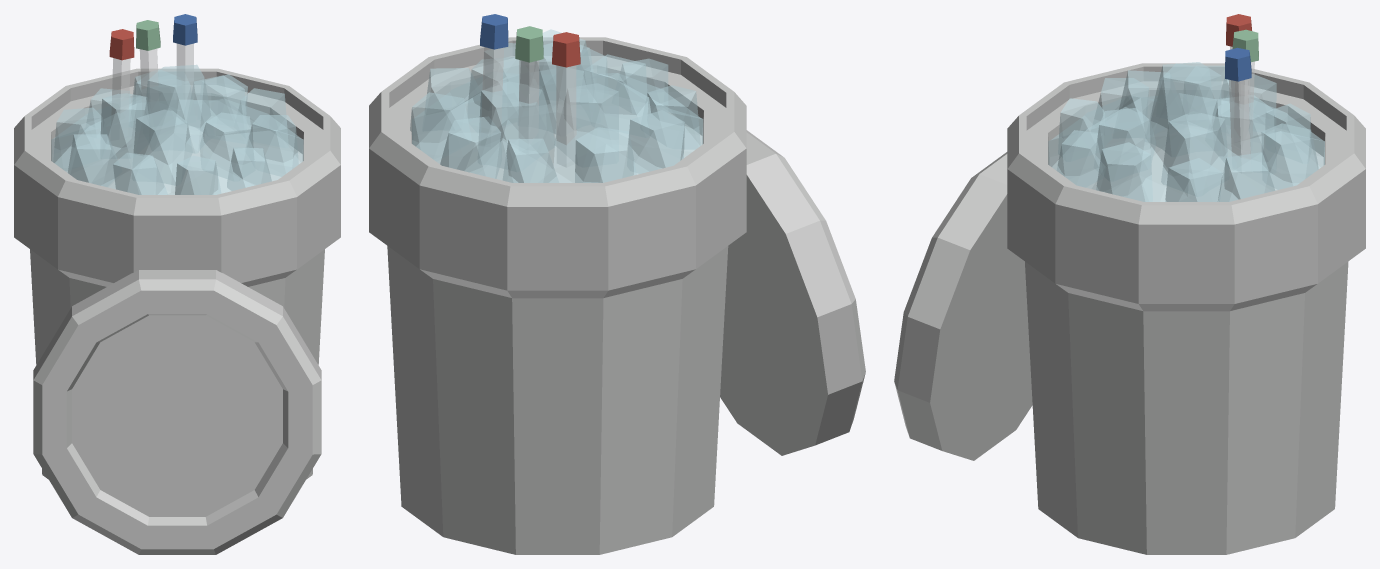
File: ice-bucket-1dd869.glb
3 views of the same model, side by side, from view 1: azimuth 30°, elevation 25°; view 2: azimuth 150°, elevation 25°; view 3: azimuth 270°, elevation 25° (orthographic). The views are drawn at different scales.
Parts seen in each view (by area): view 1: lid-slab, vessel, crushed-ice, vessel-body, tube-bodies, sample-tube-body, sample-tube-cap; view 2: vessel-body, vessel, lid-slab, crushed-ice, tube-bodies, sample-tube-body, sample-tube-cap; view 3: vessel-body, vessel, crushed-ice, lid-slab, tube-bodies.
Boxes of the visible parts, x1,y1,x2,y2 form: lid-slab: (33, 270, 321, 554); vessel: (14, 14, 340, 286); crushed-ice: (51, 64, 303, 194); vessel-body: (30, 249, 324, 479); tube-bodies: (139, 43, 193, 96); sample-tube-body: (111, 58, 130, 114); sample-tube-cap: (109, 29, 134, 60); vessel-body: (387, 246, 728, 554); vessel: (369, 14, 746, 298); lid-slab: (720, 130, 865, 455); crushed-ice: (410, 29, 703, 182); tube-bodies: (482, 47, 539, 138); sample-tube-body: (556, 65, 576, 167); sample-tube-cap: (552, 32, 580, 67); vessel-body: (1025, 261, 1348, 554); vessel: (1007, 29, 1365, 311); crushed-ice: (1048, 62, 1324, 201); lid-slab: (894, 152, 1032, 460); tube-bodies: (1229, 61, 1254, 159).
Bounding box in the file's own units: 0.2192 × 0.2522 × 0.2365.
